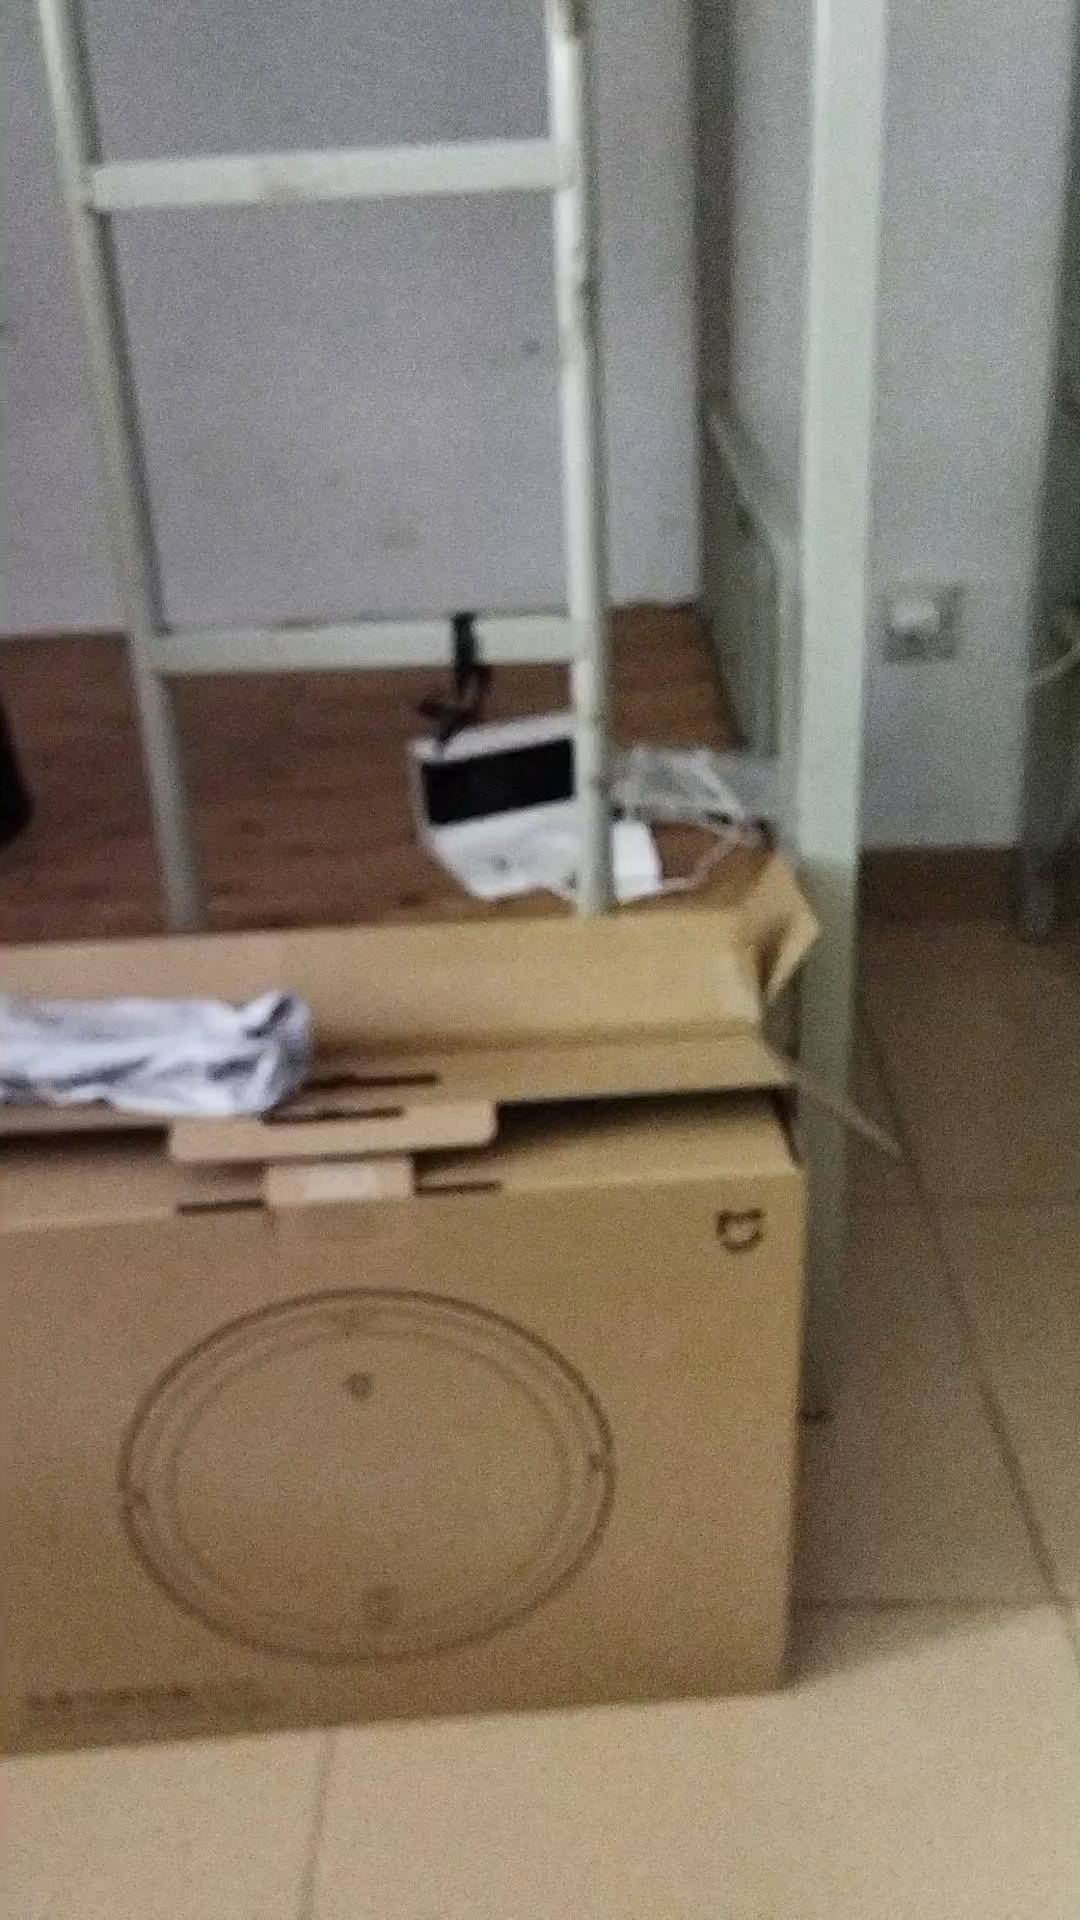recharge seat: (405, 705, 582, 907)
